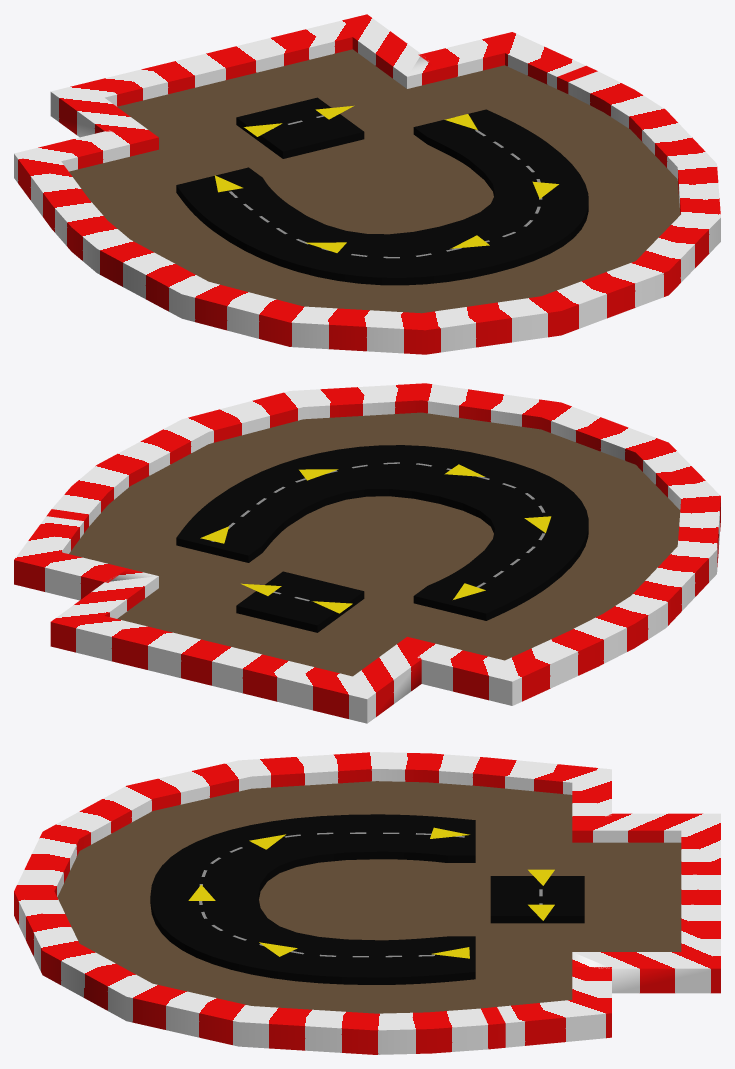
File: noon.FBX
The picture shows the model from 3 angles, top to bottom: view 1: azimuth 30°, elevation 25°; view 2: azimuth 150°, elevation 25°; view 3: azimuth 270°, elevation 25°; orthographic projection.
Visible parts, largest first — view 1: noon_floor, noon_coll, noon; view 2: noon_floor, noon_coll, noon; view 3: noon_floor, noon_coll, noon, line0.
Boxes of the visible parts, x1,y1,x2,y2 form: noon_floor: (69,49,680,313); noon_coll: (14,14,720,354); noon: (176,97,588,285); noon_floor: (69,412,680,676); noon_coll: (14,383,720,723); noon: (176,445,588,632); noon_floor: (57,781,681,1013); noon_coll: (14,752,720,1054); noon: (150,814,584,984); line0: (199,832,464,957).
Bounding box in the file's own units: 798 × 32.78 × 857.
